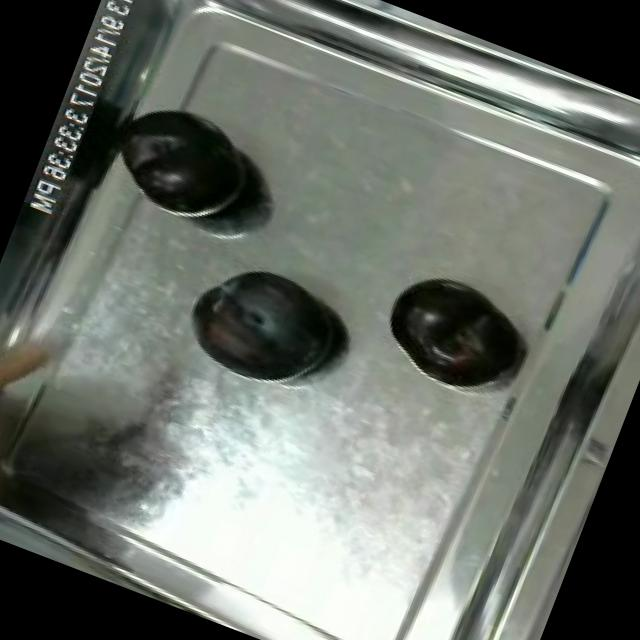Fruit: (180, 248, 357, 404), (99, 88, 273, 242), (368, 256, 538, 404)
